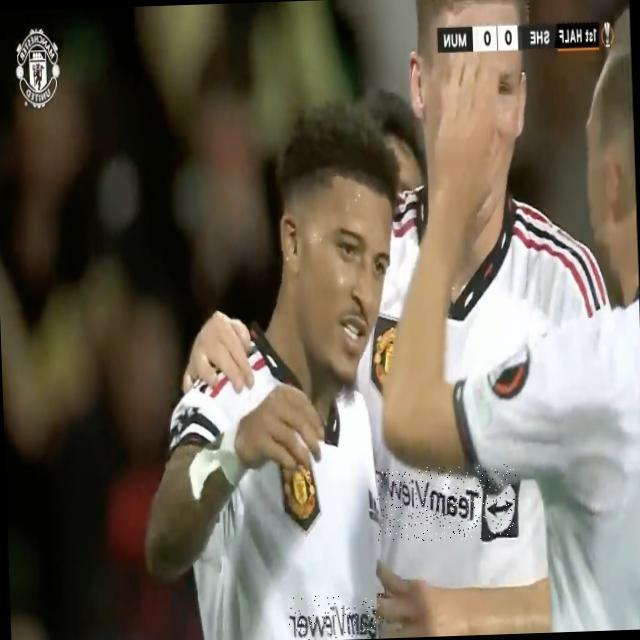TeamViewer: (375, 463, 518, 542), (286, 593, 384, 640)
